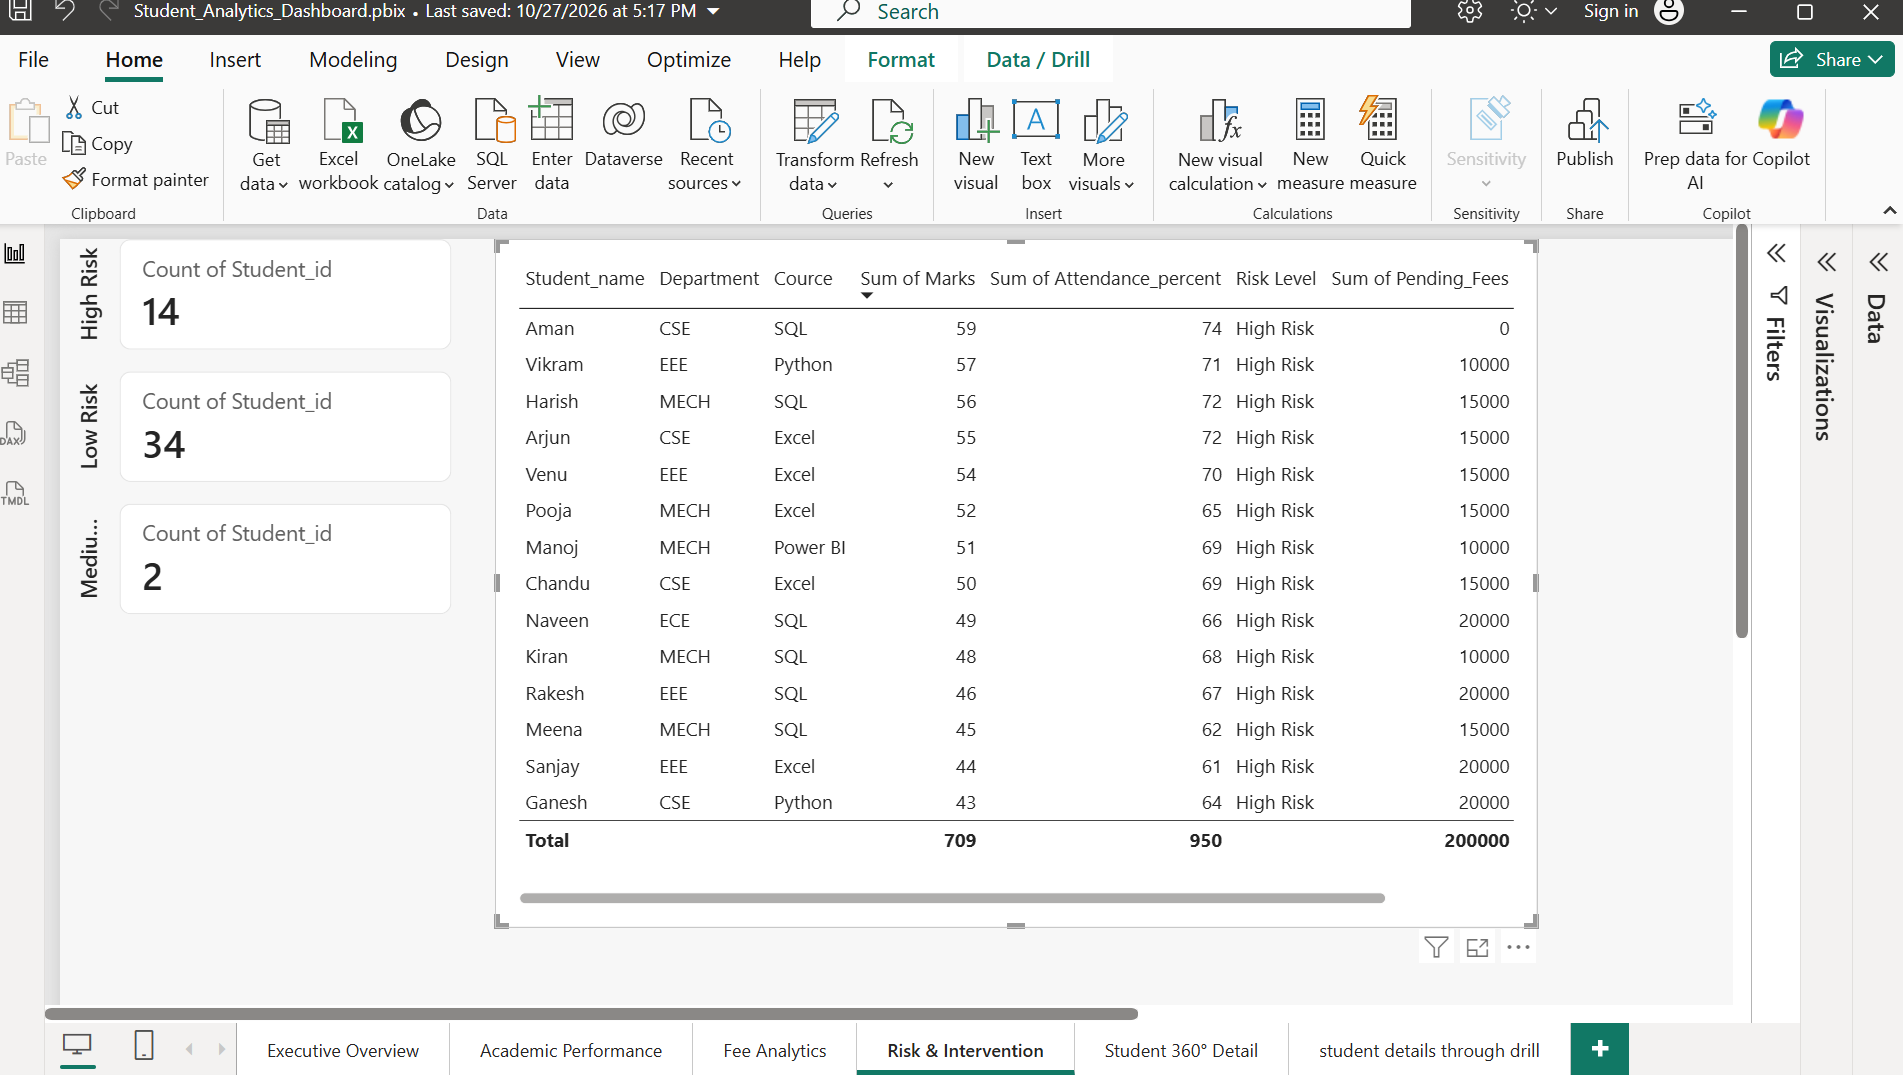

What the dashboard file says about the page in this screenshot:
{"tool":"powerbi","page":{"name":"Risk & Intervention","canvas":[1920,1080],"ordinal":3},"visuals":[{"type":"cardVisual","fields":{"Rows":["Student_performance.Risk Level"],"Data":["CountNonNull(Student_performance.Student_id)"]},"box":[10,0,280,280],"z":0},{"type":"tableEx","fields":{"Values":["Student_performance.Student_name","Student_performance.Department","Student_performance.Cource","Sum(Student_performance.Marks)","Sum(Student_performance.Attendance_percent)","Student_performance.Risk Level","Sum(Student_Fees.Pending_Fees)","Student_Fees.Payment_status"]},"box":[10,290,772,510],"z":1000}]}

Visuals, with their boxes on the page's 1920x1080 design canvas (x1, y1, x2, y2). These are canvas units, not pixel positions in the 1903x1075 screenshot, which may show the page scaled, cropped or inside an application window:
cardVisual - Student_performance.Risk Level x CountNonNull(Student_performance.Student_id): 10,0,290,280
tableEx - Student_performance.Student_name x Student_performance.Department: 10,290,782,800
